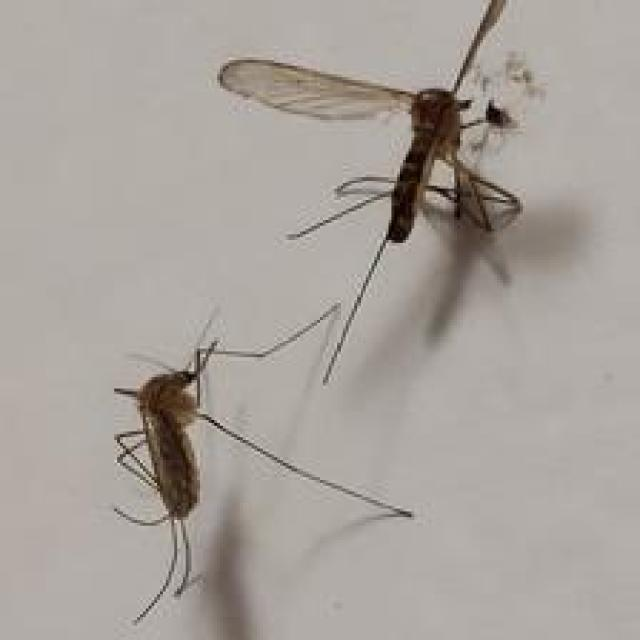Culex: (110, 300, 416, 626)
